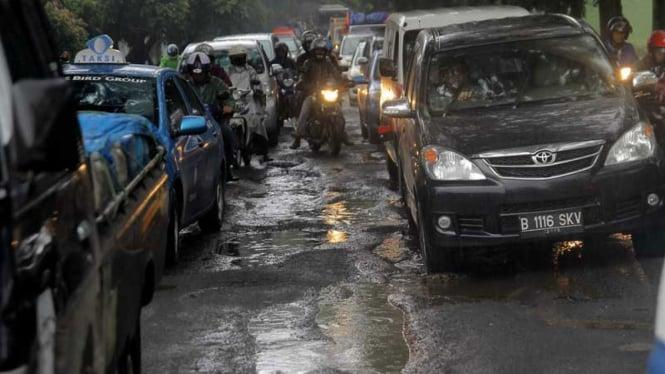Pothole: (213, 148, 423, 274), (416, 274, 659, 336)
